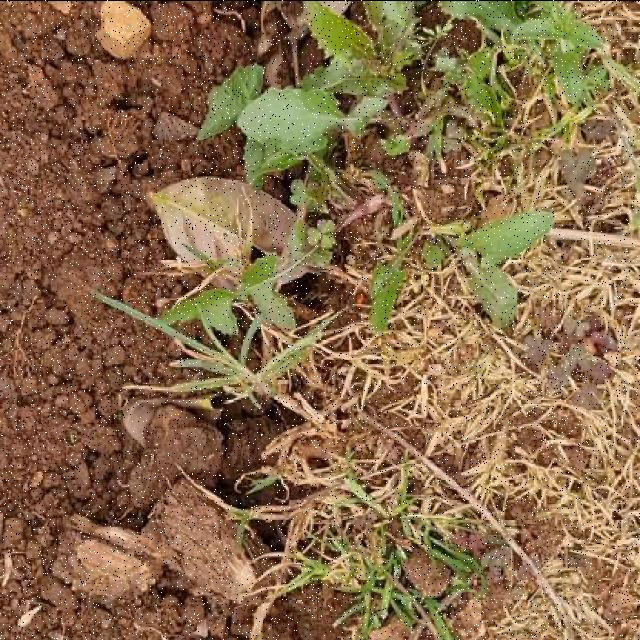weed: (198, 0, 465, 211), (435, 0, 610, 128), (165, 218, 333, 329), (423, 208, 556, 328), (371, 225, 416, 329)
